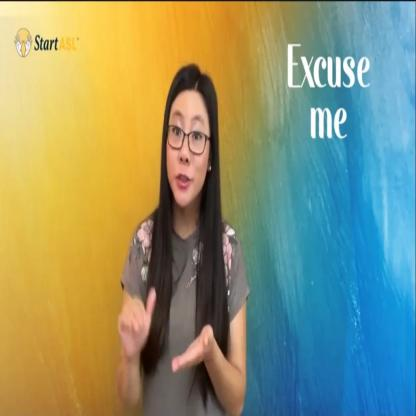ExcuseMe: (113, 283, 220, 384)
